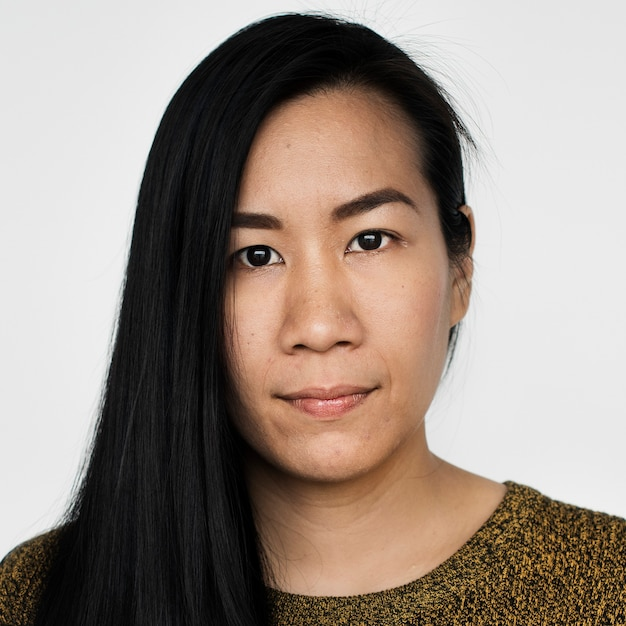teen: (148, 40, 476, 451)
